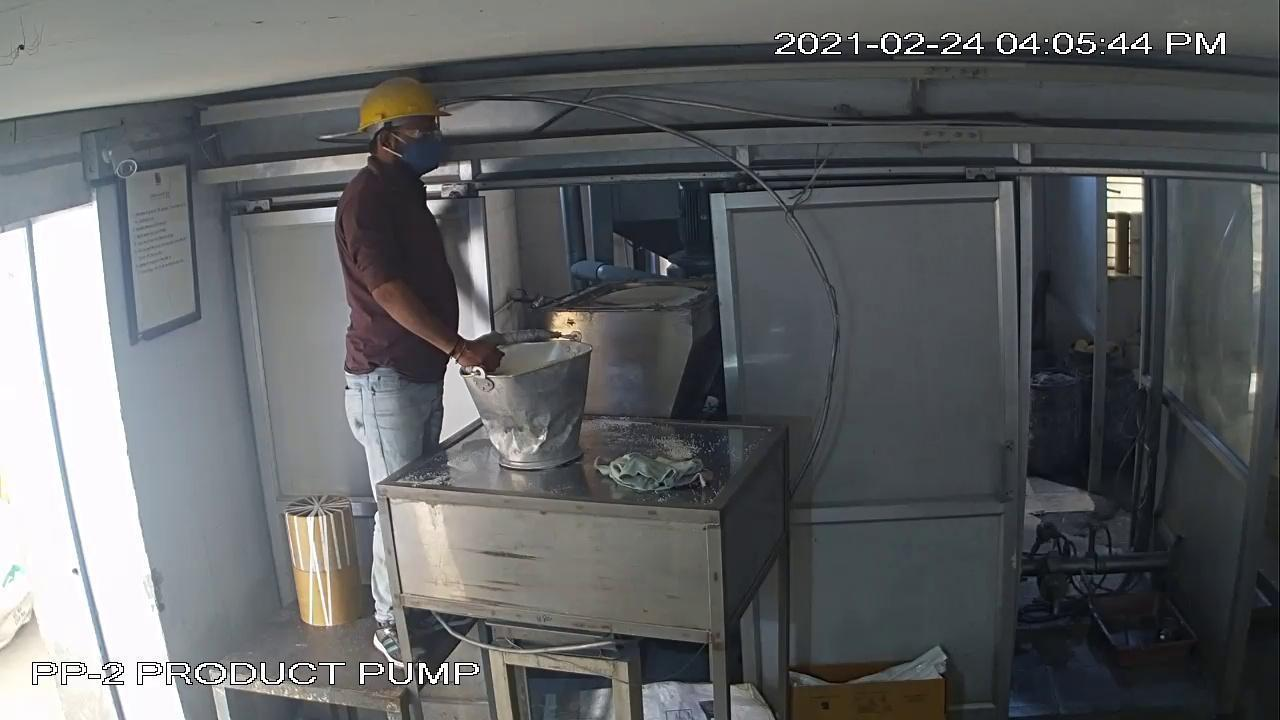helmet: (344, 62, 466, 151)
